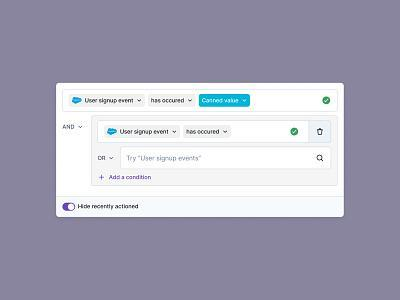checkbox: (322, 96, 333, 106), (291, 127, 300, 137)
dropdown: (70, 94, 146, 108), (106, 125, 181, 138), (200, 95, 251, 108), (184, 126, 233, 139), (150, 95, 197, 108), (61, 120, 88, 135)
icon: (315, 152, 327, 166), (317, 126, 327, 138)
input: (123, 146, 333, 170)
label: (78, 204, 142, 211)
switch: (62, 202, 77, 213)
